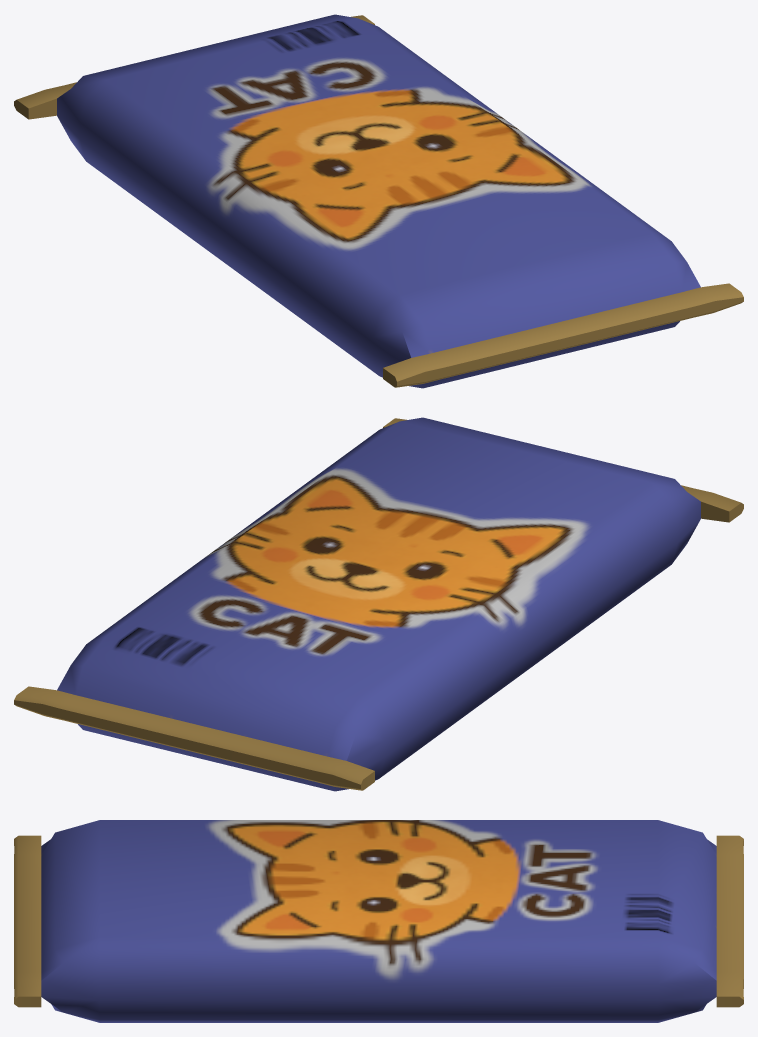
Rendered from feed_sack.fbx.
3 renders of one model, top to bottom at view 1: azimuth 30°, elevation 25°; view 2: azimuth 150°, elevation 25°; view 3: azimuth 270°, elevation 25°, orthographic. The views are drawn at different scales.
Visible parts, largest first — view 1: feed_sack; view 2: feed_sack; view 3: feed_sack.
Part boxes in pixels (<box>): feed_sack: <box>14,14,743,388</box>; feed_sack: <box>14,417,743,791</box>; feed_sack: <box>14,820,743,1022</box>.
Bounding box in the file's own units: 96.34 × 23.88 × 184.
1 material, 1 textured.
